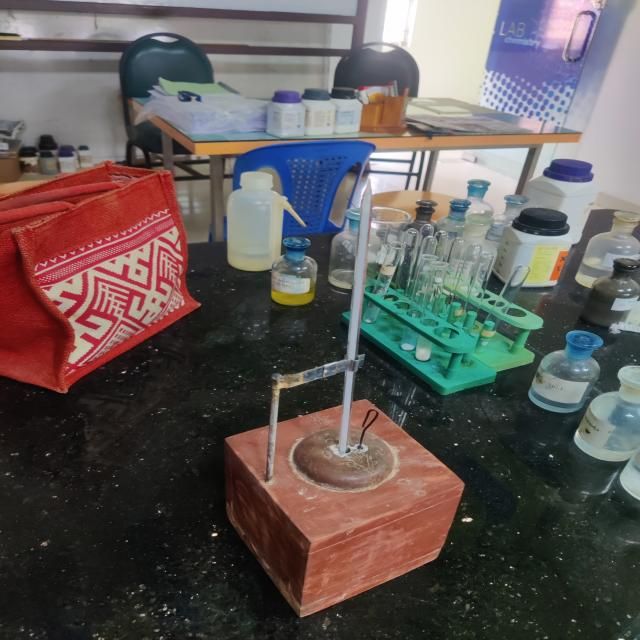Calorimeter: (186, 146, 488, 640)
